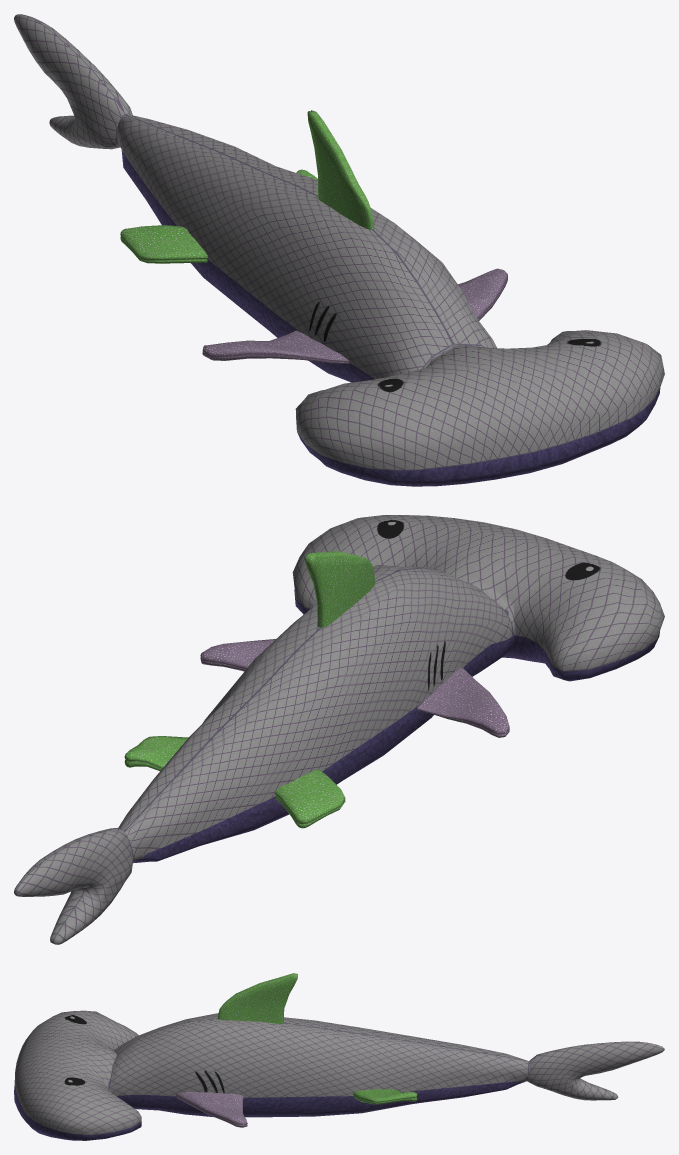
File: hammerhead_toy.fbx
The picture shows the model from 3 angles, top to bottom: view 1: azimuth 30°, elevation 25°; view 2: azimuth 150°, elevation 25°; view 3: azimuth 270°, elevation 25°; orthographic projection. The views are drawn at different scales.
Visible parts, largest first — view 1: lowpoly_0; view 2: lowpoly_0; view 3: lowpoly_0.
Boxes of the visible parts, <box> form: lowpoly_0: <box>14,14,664,486</box>; lowpoly_0: <box>14,515,664,944</box>; lowpoly_0: <box>14,973,664,1140</box>.
Bounding box in the file's own units: 0.1571 × 0.094 × 0.4103.
Materials: 1 (1 with a texture image).
